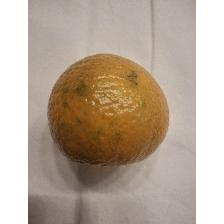Mandarine: (42, 52, 174, 170)
